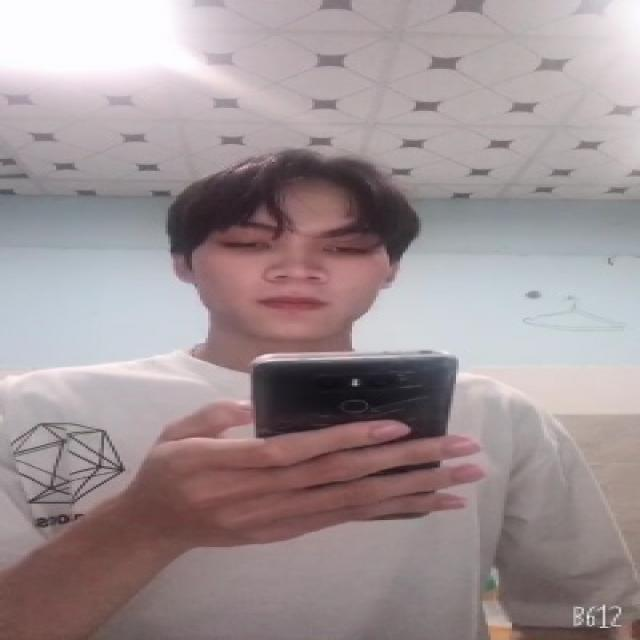Phone: (245, 348, 462, 524)
